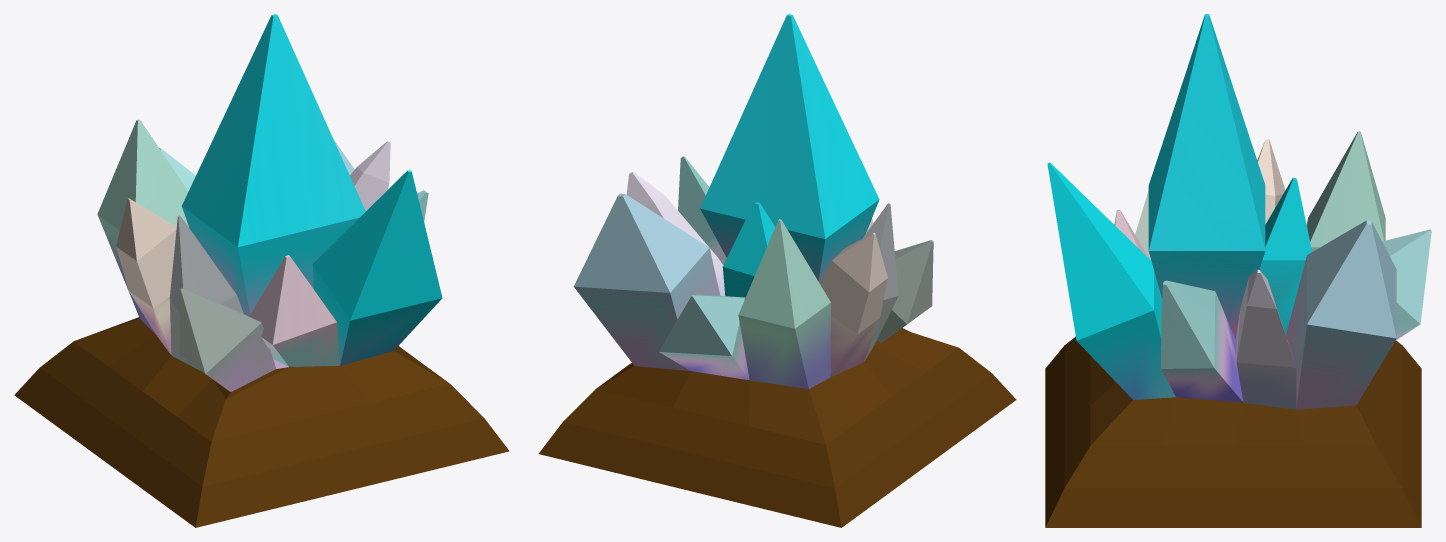
File: Crystal1.fbx
The picture shows the model from 3 angles, left to right: view 1: azimuth 30°, elevation 25°; view 2: azimuth 150°, elevation 25°; view 3: azimuth 270°, elevation 25°; orthographic projection. The views are drawn at different scales.
Visible parts, largest first — view 1: Cube; view 2: Cube; view 3: Cube.
Part boxes in pixels (box(x1,y1,x2,y2)): Cube: box(14, 14, 509, 527); Cube: box(538, 14, 1016, 527); Cube: box(1045, 14, 1431, 527).
Bounding box in the file's own units: 357 × 453 × 366.
